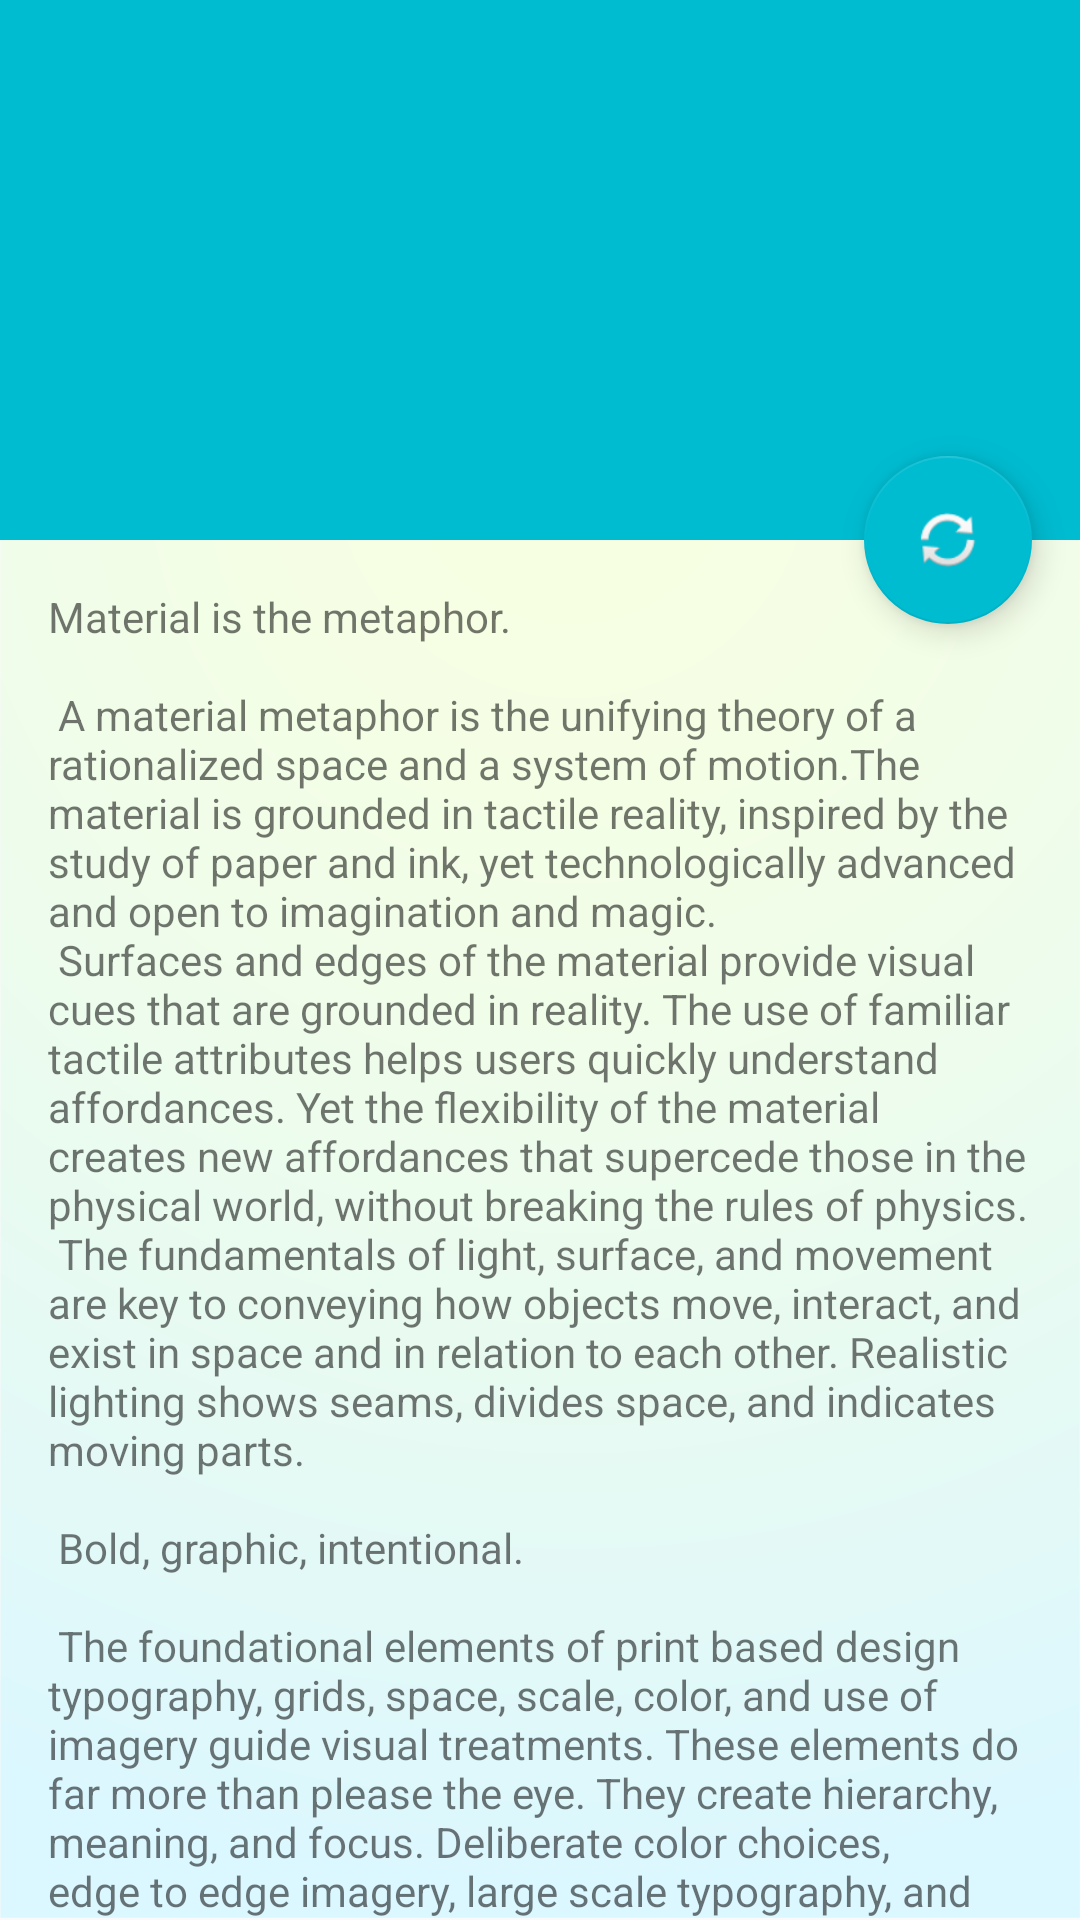

Icons on this 1080 × 1920 Android screen, each with the point to tap as (x=x, y=y):
popup sync: (x=948, y=540)
